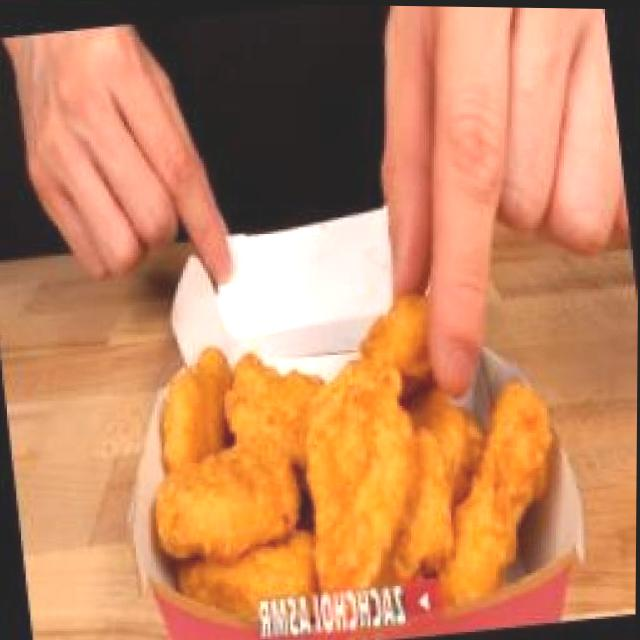nugget: (114, 214, 587, 640)
